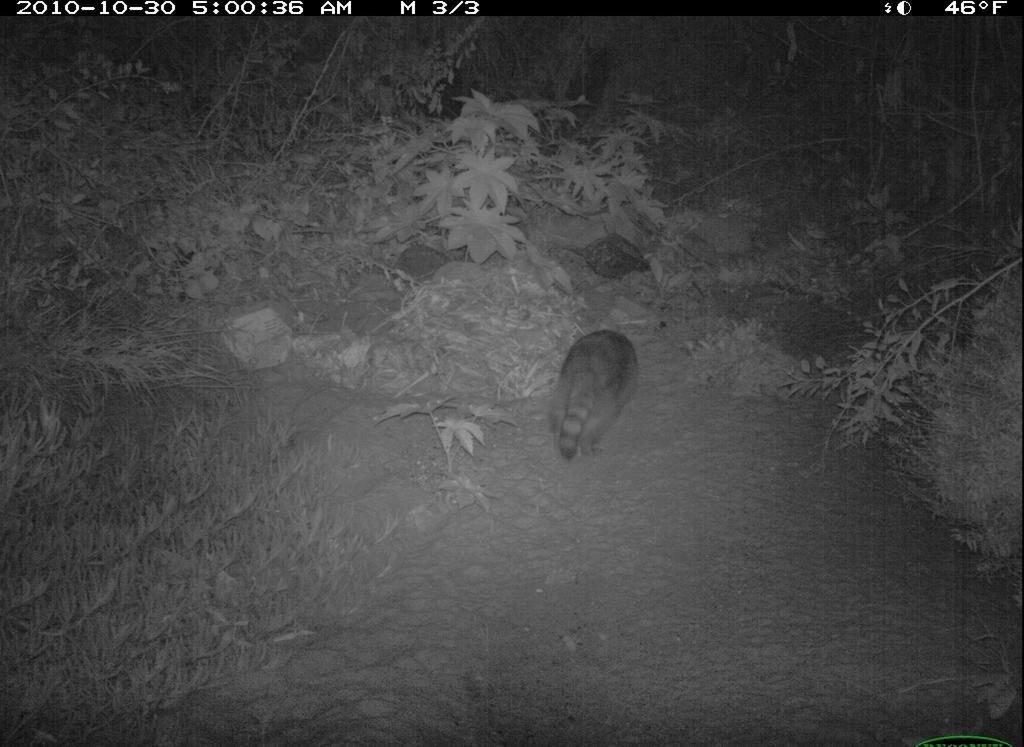raccoon: (542, 310, 652, 470)
